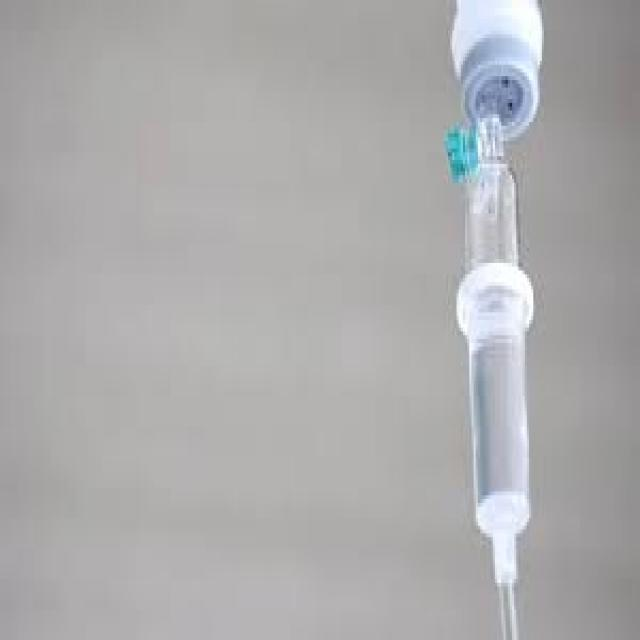iv_fluids: (410, 46, 574, 617)
